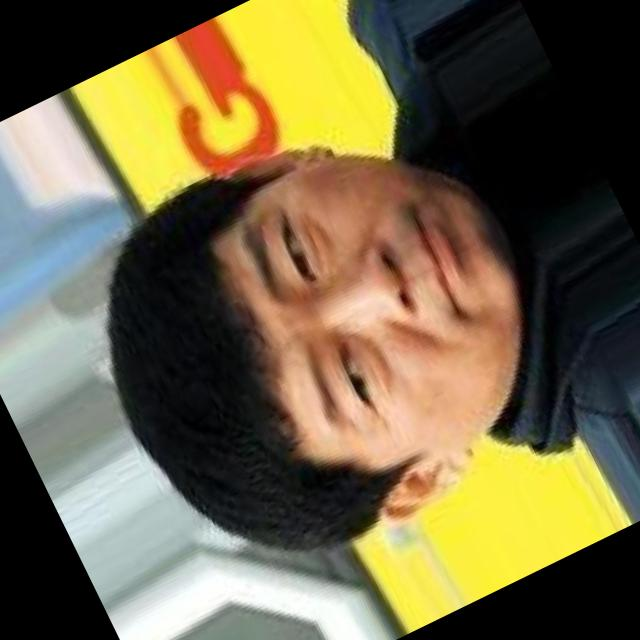bareface: (114, 73, 601, 553)
